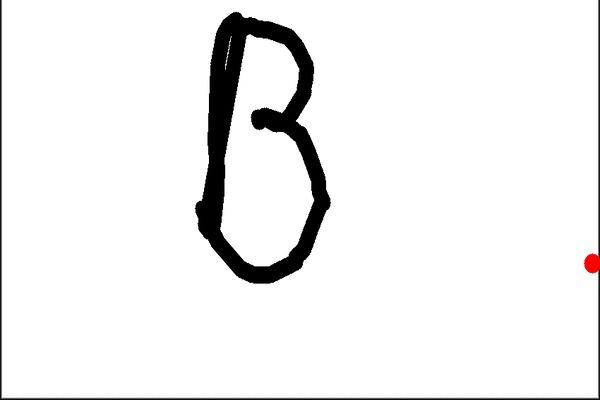B: (187, 3, 343, 292)
